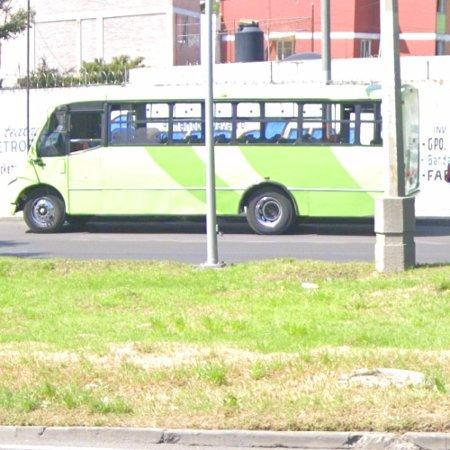buses: (9, 87, 204, 231), (214, 85, 384, 234), (402, 85, 420, 194)
